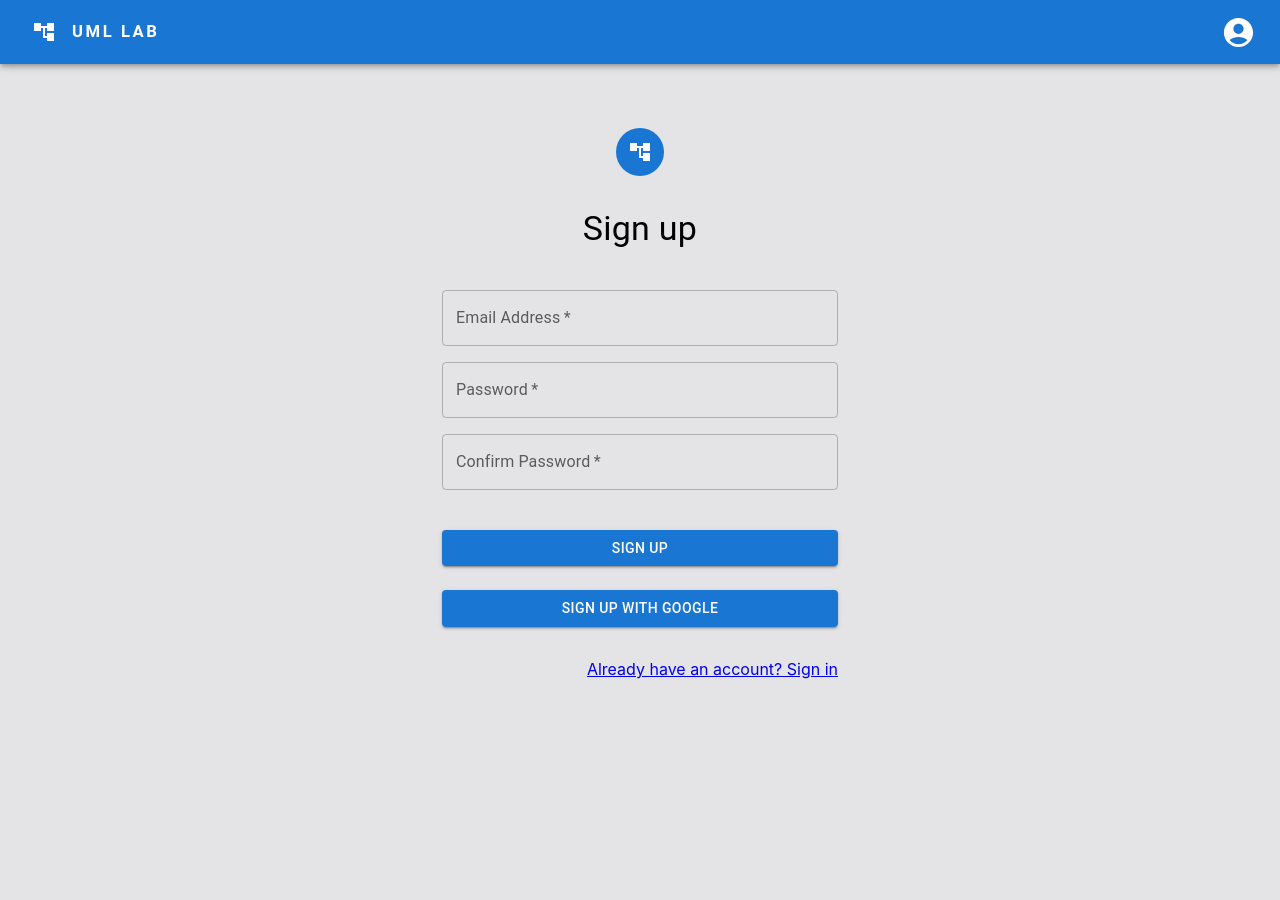
it: Signup Testing › should tell user if google account is already associated with webapp
Click the button "Sign Up with Google": (640, 609) [442,590,838,627]
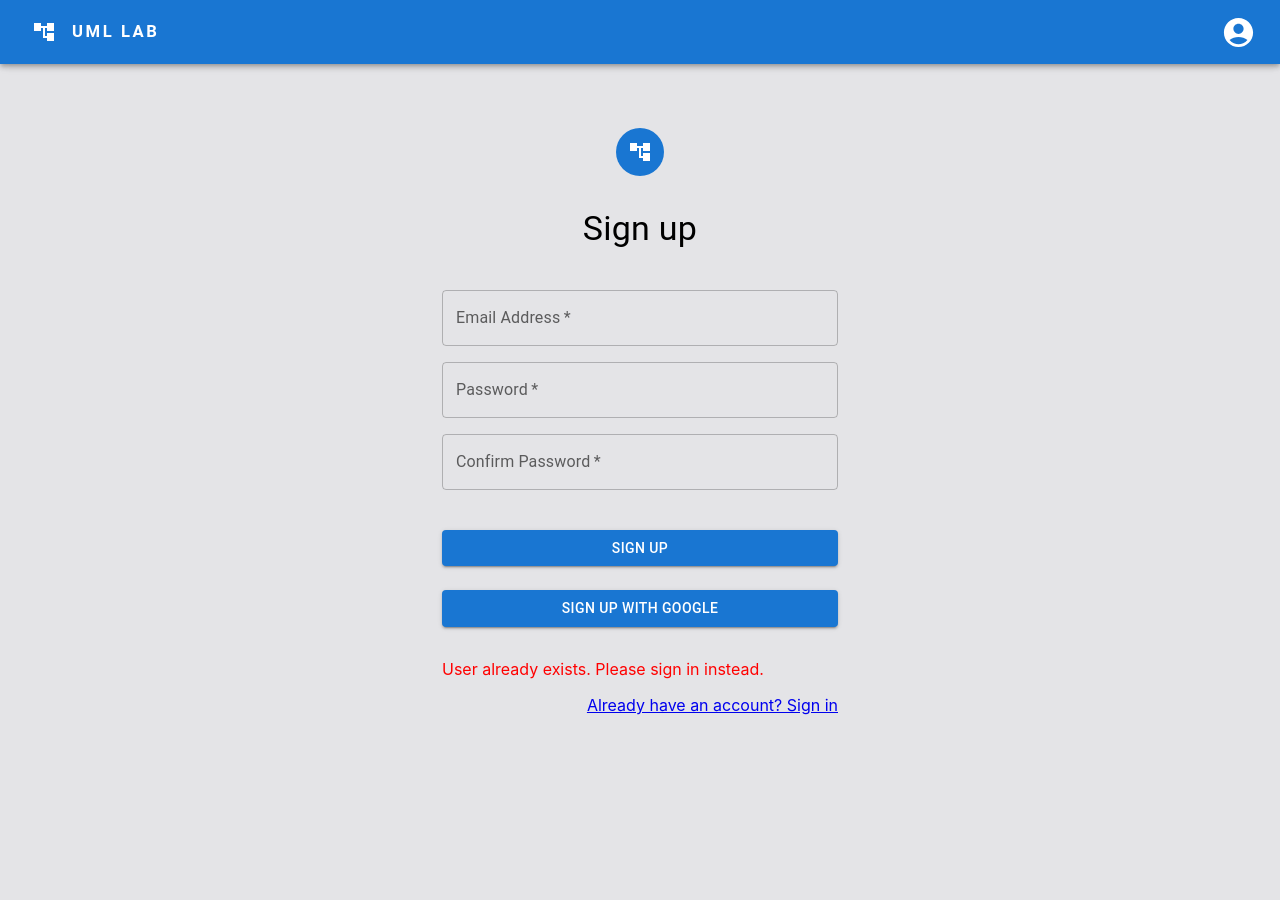
Expected: the text "User already exists. Please sign in instead." is shown, [442,659,764,679]
